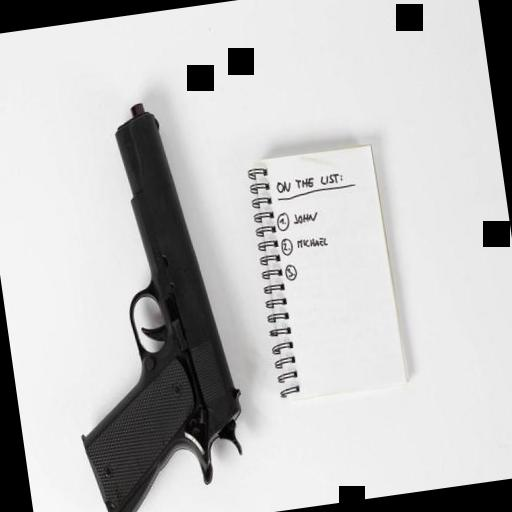Handgun: (34, 87, 257, 512)
